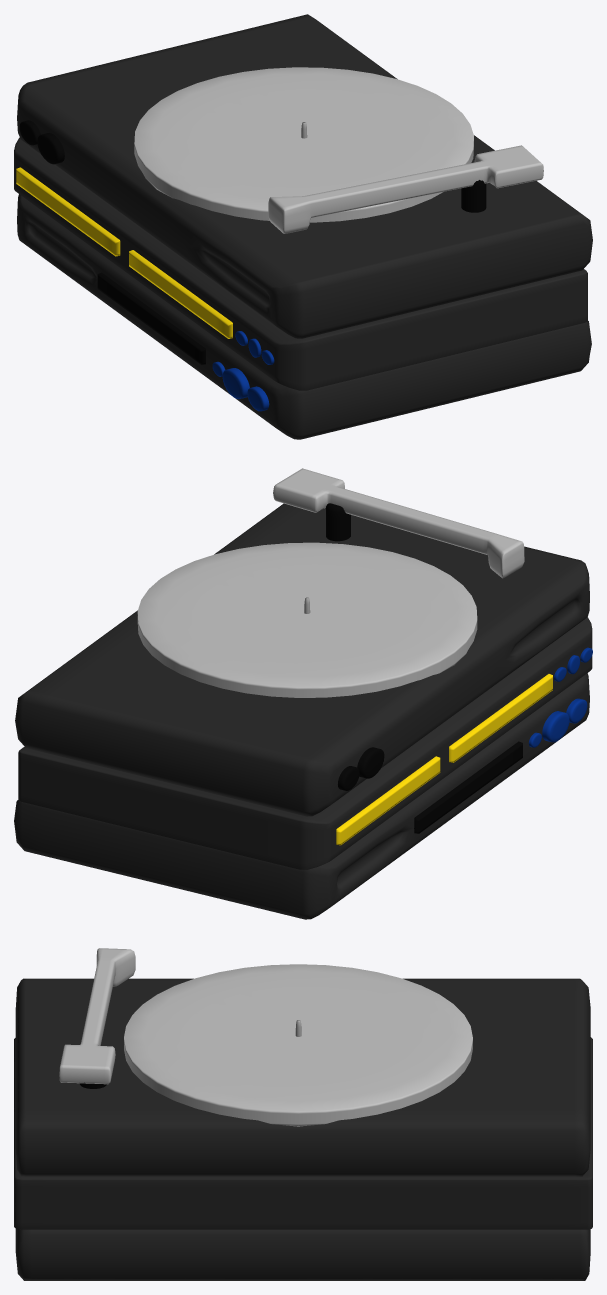
File: RecordPlayer.fbx
3 renders of one model, top to bottom at view 1: azimuth 30°, elevation 25°; view 2: azimuth 150°, elevation 25°; view 3: azimuth 270°, elevation 25°, orthographic. The views are drawn at different scales.
Visible parts, largest first — view 1: pasted__Record_Player, table, CD, Tuner, head, pasted__Bar, pasted__pCube7, pasted__pCube6, pin, button, pasted__Button2; view 2: pasted__Record_Player, table, CD, Tuner, head, pasted__Bar, pasted__pCube7, pasted__pCube6, pin, pasted__Button2, button; view 3: pasted__Record_Player, table, CD, Tuner, head.
Part boxes in pixels (left/top/right/bottom): pasted__Record_Player: left=17, top=14, right=592, bottom=338; table: left=134, top=67, right=473, bottom=222; CD: left=14, top=137, right=587, bottom=390; Tuner: left=17, top=194, right=591, bottom=439; head: left=268, top=145, right=543, bottom=233; pasted__Bar: left=97, top=272, right=205, bottom=364; pasted__pCube7: left=16, top=167, right=120, bottom=256; pasted__pCube6: left=129, top=250, right=232, bottom=338; pin: left=461, top=180, right=486, bottom=212; button: left=37, top=133, right=64, bottom=164; pasted__Button2: left=222, top=368, right=249, bottom=399; pasted__Record_Player: left=15, top=503, right=589, bottom=816; table: left=137, top=542, right=477, bottom=697; CD: left=18, top=617, right=592, bottom=869; Tuner: left=14, top=673, right=589, bottom=919; head: left=273, top=468, right=524, bottom=578; pasted__Bar: left=414, top=741, right=522, bottom=833; pasted__pCube7: left=336, top=756, right=440, bottom=845; pasted__pCube6: left=449, top=674, right=552, bottom=762; pin: left=326, top=503, right=350, bottom=541; pasted__Button2: left=542, top=711, right=569, bottom=742; button: left=357, top=747, right=384, bottom=778; pasted__Record_Player: left=15, top=978, right=590, bottom=1176; table: left=124, top=964, right=472, bottom=1126; CD: left=14, top=1037, right=592, bottom=1229; Tuner: left=15, top=1229, right=590, bottom=1280; head: left=59, top=948, right=135, bottom=1084.
Size of the model in its own units: 0.519 by 0.3141 by 0.8062.
